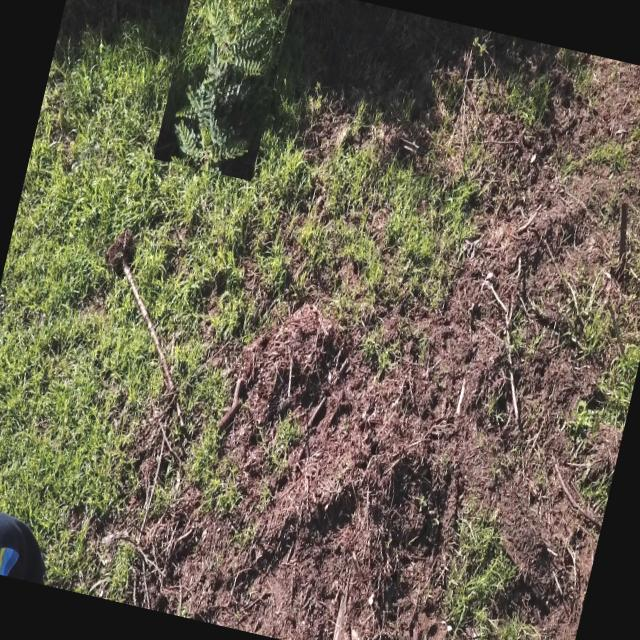Mysore-Thorn-Weed: (153, 0, 295, 180)
